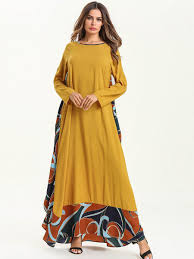middle_eastern_Female: (84, 8, 105, 37)
